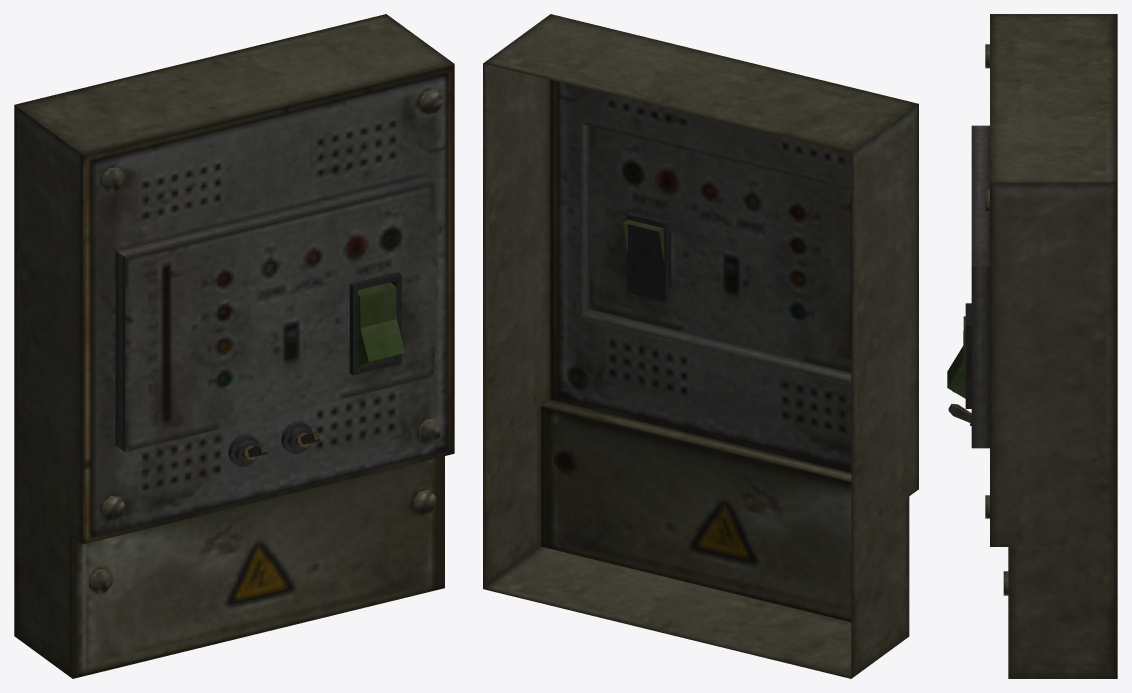
File: panel_etx_1.obj
3 renders of one model, left to right at view 1: azimuth 30°, elevation 25°; view 2: azimuth 150°, elevation 25°; view 3: azimuth 270°, elevation 25°, orthographic. The views are drawn at different scales.
Visible parts, largest first — view 1: panel_etx_1, panel_etx_1_button_child; view 2: panel_etx_1; view 3: panel_etx_1, panel_etx_1_button_child, panel_etx_1_switch_child_1.
Boxes of the visible parts, x1,y1,x2,y2 form: panel_etx_1: (14,14,454,678); panel_etx_1_button_child: (358,282,405,366); panel_etx_1: (483,14,918,678); panel_etx_1: (965,14,1117,678); panel_etx_1_button_child: (947,316,965,398); panel_etx_1_switch_child_1: (948,404,971,425).
Size of the model in its own units: 0.44 by 0.6 by 0.1866.
